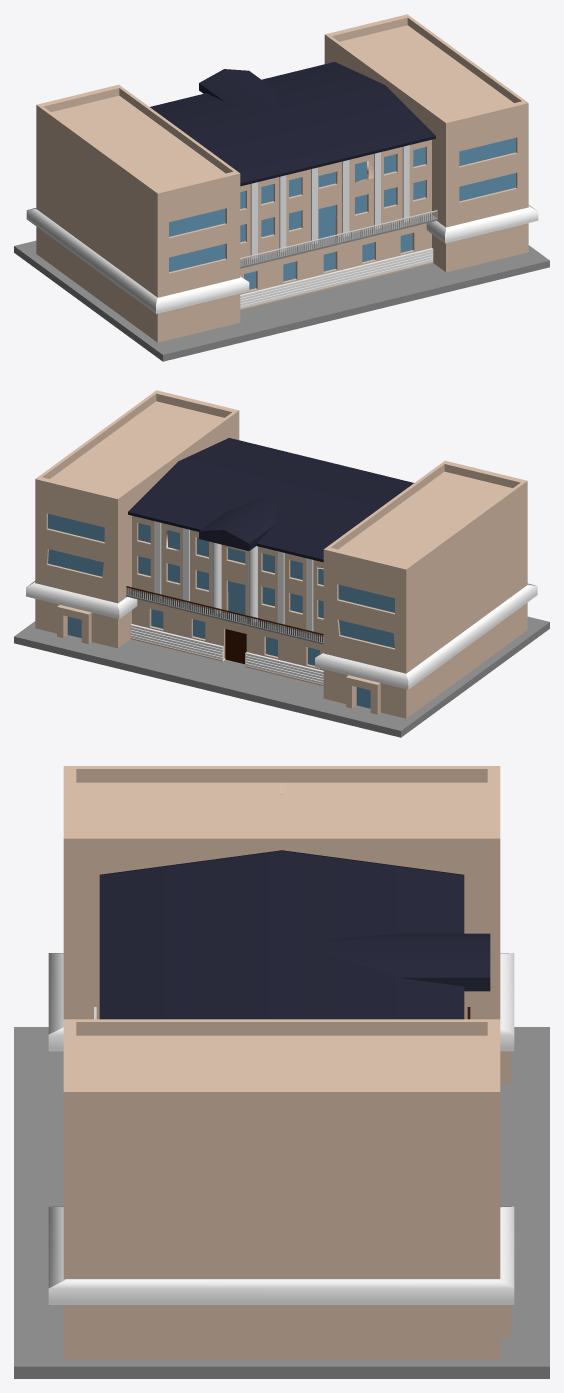
File: Dom VIII.FBX
3 views of the same model, one above another, from view 1: azimuth 30°, elevation 25°; view 2: azimuth 150°, elevation 25°; view 3: azimuth 270°, elevation 25° (orthographic). The views are drawn at different scales.
Parts seen in each view (by area): view 1: Box003, Object, Box001, Plane001, Box132, Box128, Object009, Box006, Box129, Box131, Box130, Box005 (+7 smaller); view 2: Box003, Object, Plane001, Box001, Box132, Box128, Box006, Object009, Box131, Box130, Box129, Box005 (+8 smaller); view 3: Box003, Object, Plane001, Box129, Box006, Box128.
Boxes of the visible parts, box(x1,y1,x2,y2) form: Box003: box(36, 14, 528, 342); Object: box(150, 62, 435, 186); Box001: box(108, 67, 462, 309); Plane001: box(14, 240, 549, 361); Box132: box(240, 147, 425, 289); Box128: box(26, 208, 249, 313); Object009: box(240, 248, 433, 308); Box006: box(199, 69, 278, 108); Box129: box(426, 205, 538, 243); Box131: box(459, 137, 515, 201); Box130: box(169, 208, 225, 272); Box005: box(240, 215, 437, 268); Box003: box(35, 390, 527, 718); Object: box(128, 438, 413, 562); Plane001: box(14, 616, 549, 737); Box001: box(101, 443, 455, 685); Box132: box(138, 523, 323, 665); Box128: box(315, 583, 537, 689); Box006: box(199, 489, 278, 550); Object009: box(130, 624, 323, 684); Box131: box(48, 513, 104, 637); Box130: box(338, 584, 394, 708); Box129: box(26, 581, 137, 618); Box005: box(126, 591, 323, 644); Box003: box(63, 766, 511, 1360); Object: box(99, 850, 464, 1019); Plane001: box(14, 1027, 549, 1378); Box129: box(48, 1206, 514, 1304); Box006: box(294, 933, 490, 991); Box128: box(48, 953, 514, 1051).
Bounding box in the file's own units: 3 × 1.16 × 2.
